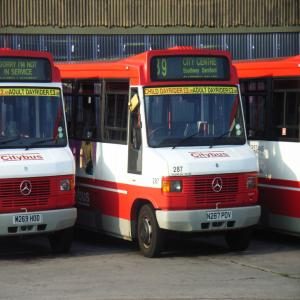Vehicle-registration-plate: (14, 214, 44, 225), (207, 213, 233, 222)
